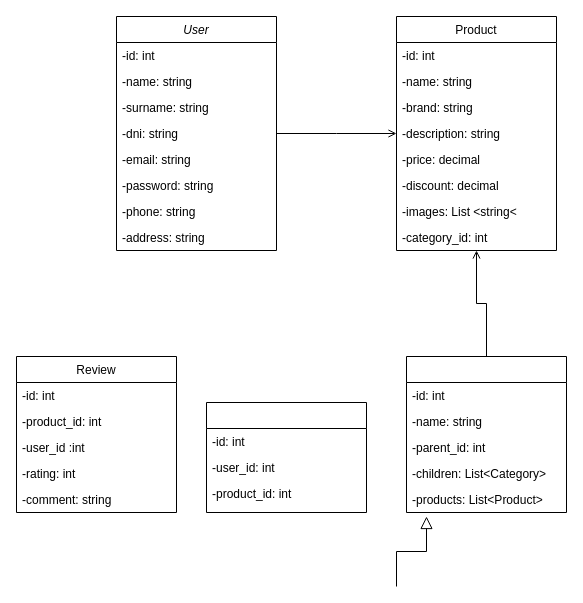
The diagram is 583 pixels wide and 603 high, and some of its shapes have lost their labels. Each missing label, with the box of its shape:
Category: (406, 356, 566, 512)
Wishlist: (206, 402, 366, 512)
